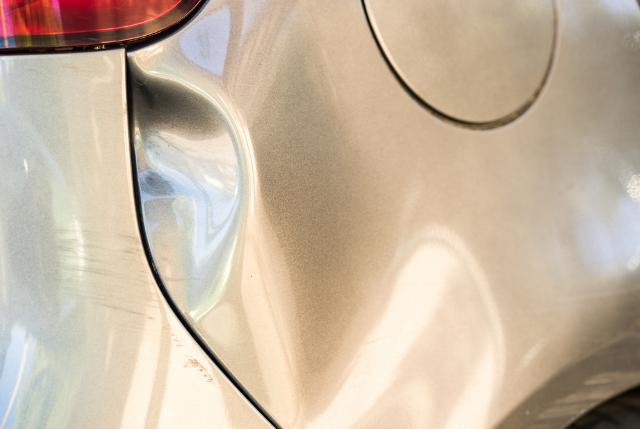dent: (132, 60, 244, 323)
scratch: (55, 230, 218, 386)
